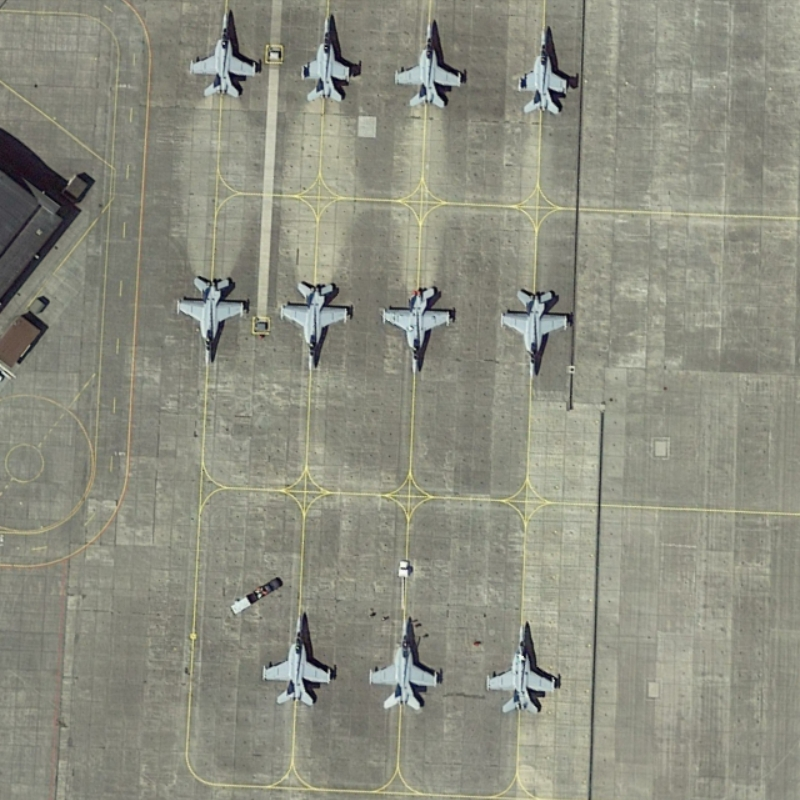A16: (479, 616, 569, 720), (270, 273, 359, 378), (377, 279, 462, 385), (388, 11, 471, 117), (254, 605, 337, 711), (171, 263, 252, 371), (181, 4, 266, 106), (362, 609, 443, 716), (497, 281, 578, 383), (507, 22, 582, 118), (294, 2, 360, 111)
